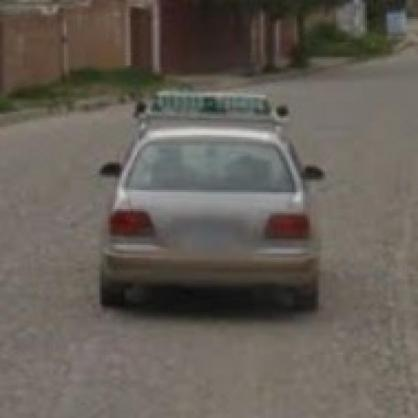car: (101, 93, 320, 311)
